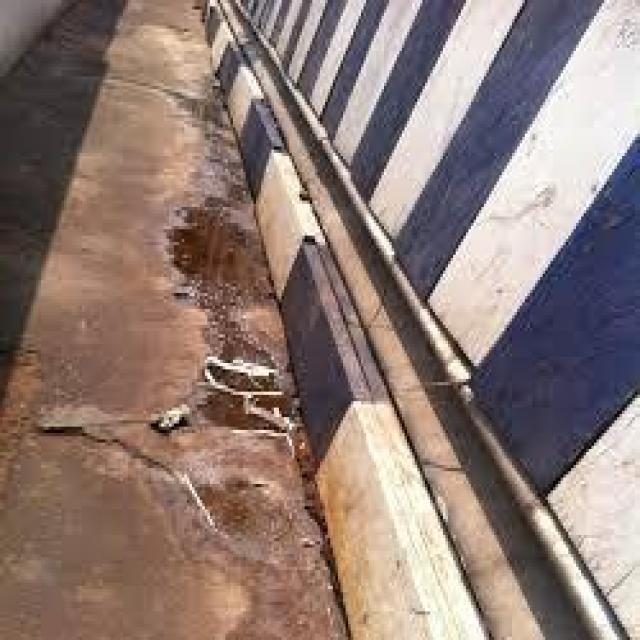curb: (210, 17, 501, 640)
